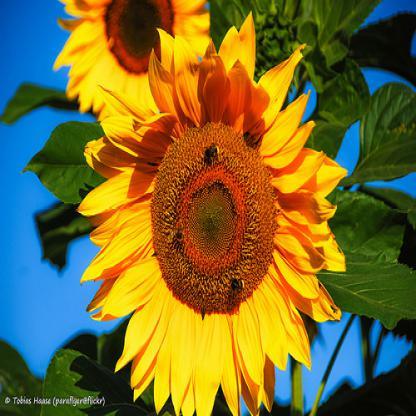SUN FLOWER: (37, 5, 341, 412)
